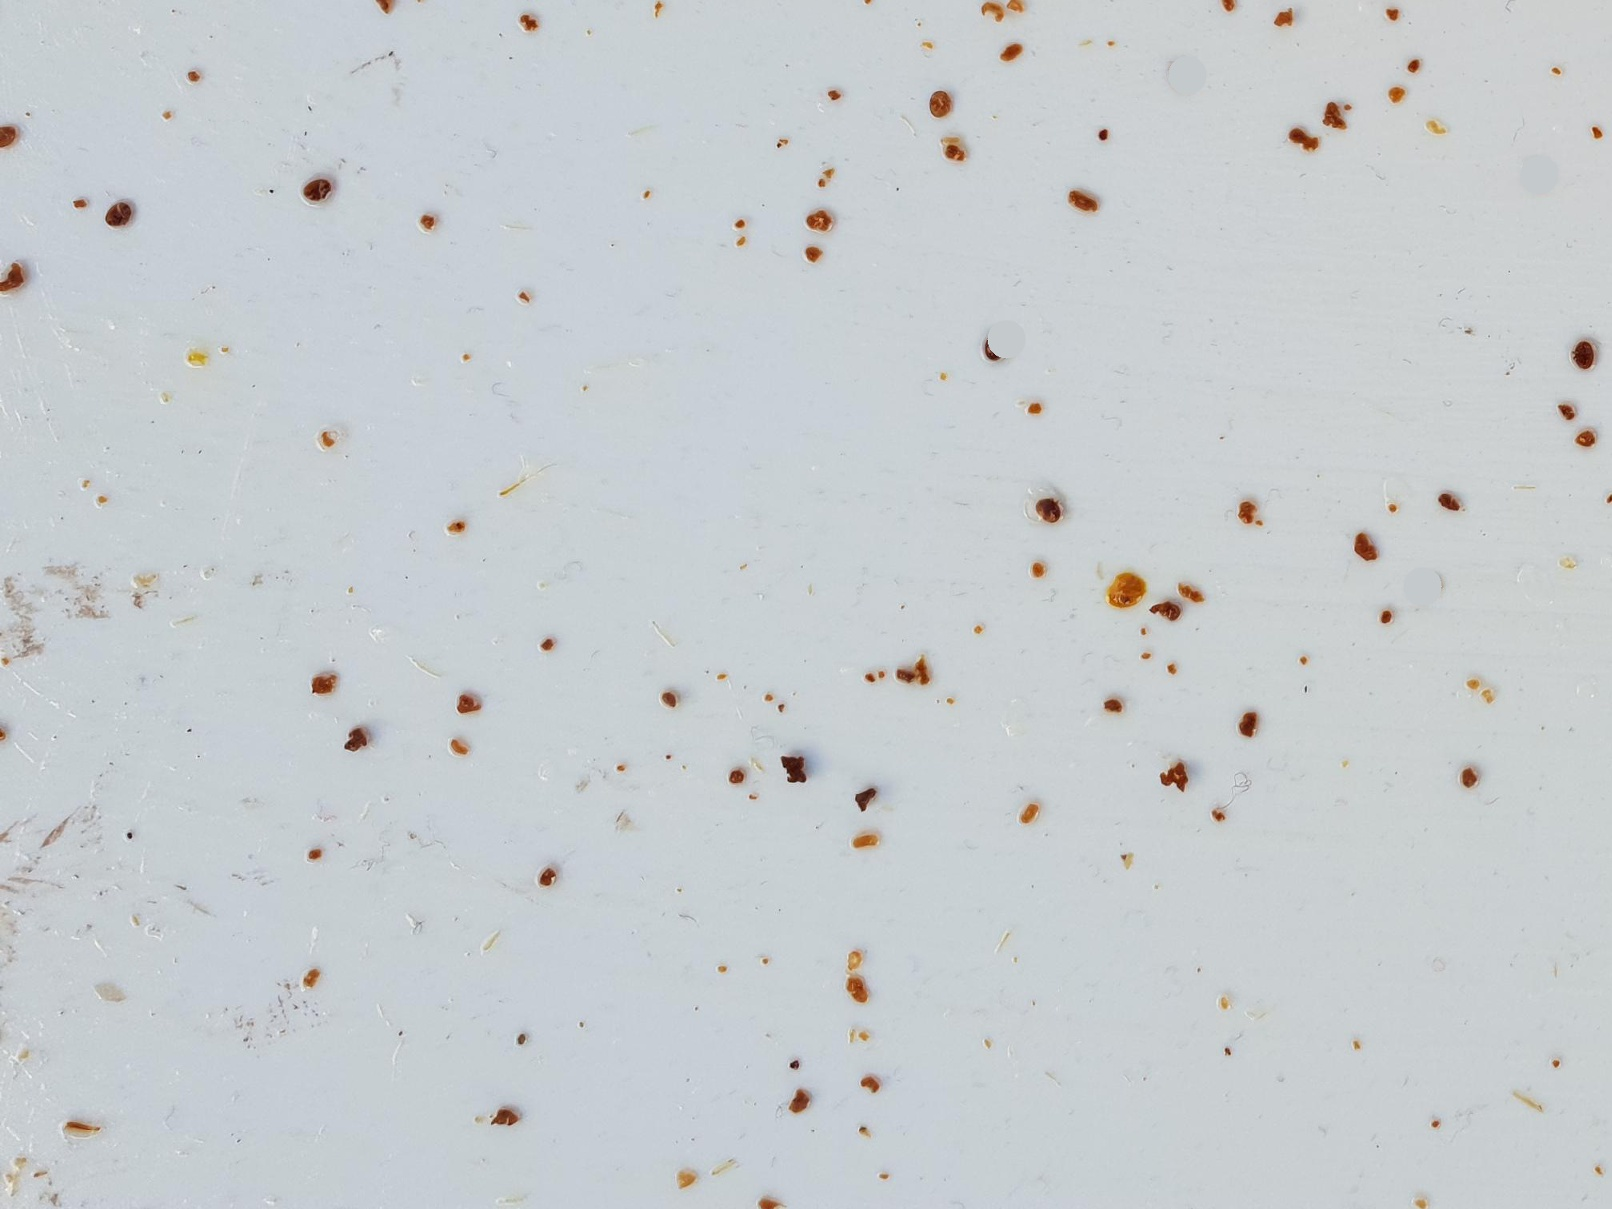Varroa: (980, 323, 1007, 353), (109, 199, 137, 227), (303, 173, 330, 199), (1571, 342, 1597, 370), (930, 88, 953, 113), (1047, 497, 1067, 524), (1037, 505, 1048, 519)
